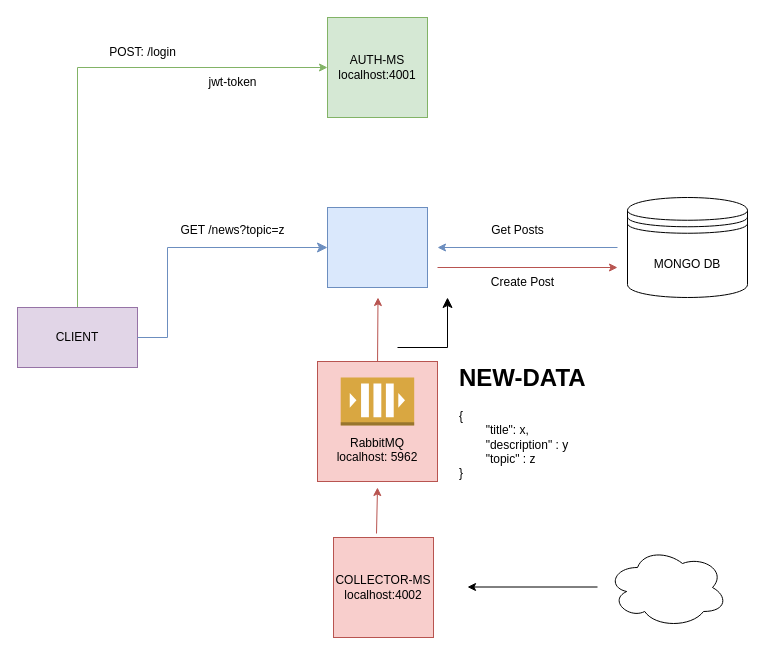
Some shapes in this 765 by 655 pixel diagram are drawn without their labels. The centre of each missing label's shape, as x and y in pixels:
"NEWS-FEED" goes at (x=667, y=587).
"POST-MS localhost:4000" goes at (x=377, y=247).
